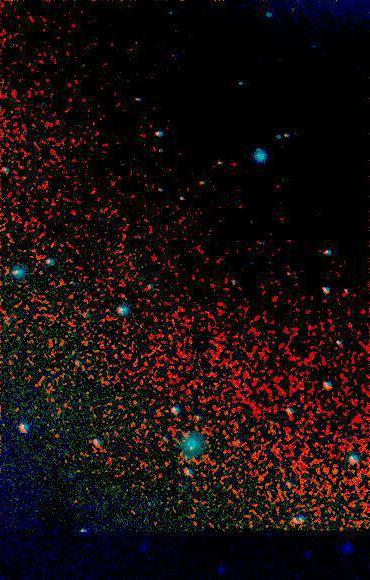star: (277, 0, 307, 21)
